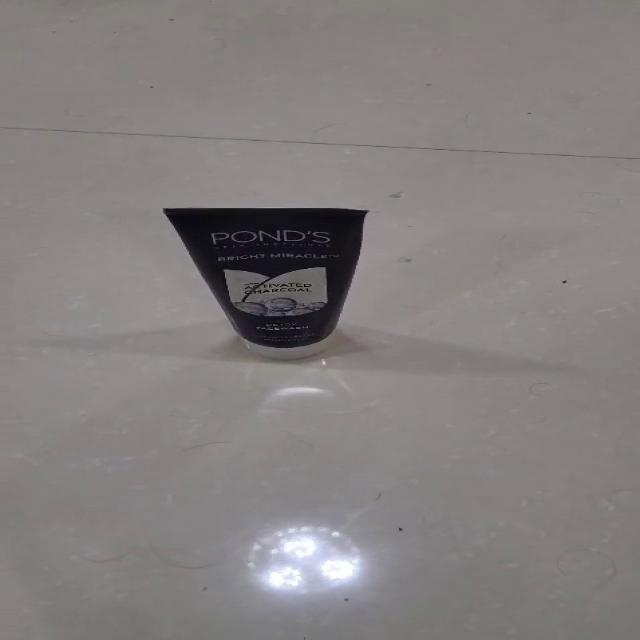plastic: (161, 205, 368, 360)
